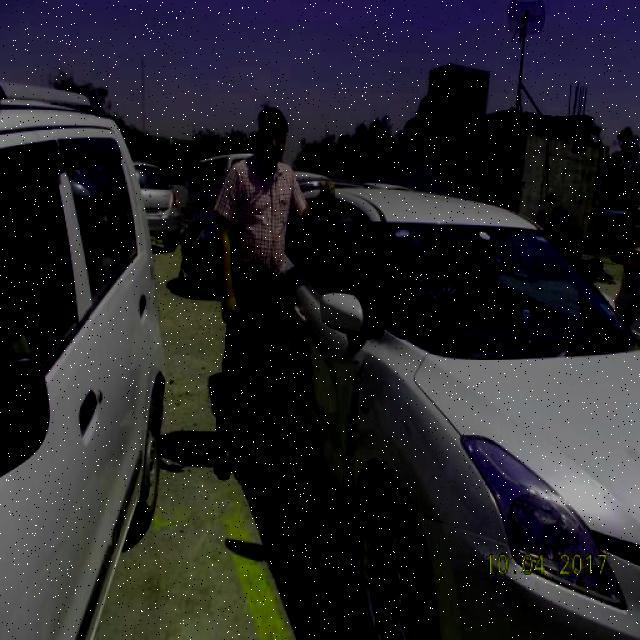car damage: (339, 357, 373, 519)
